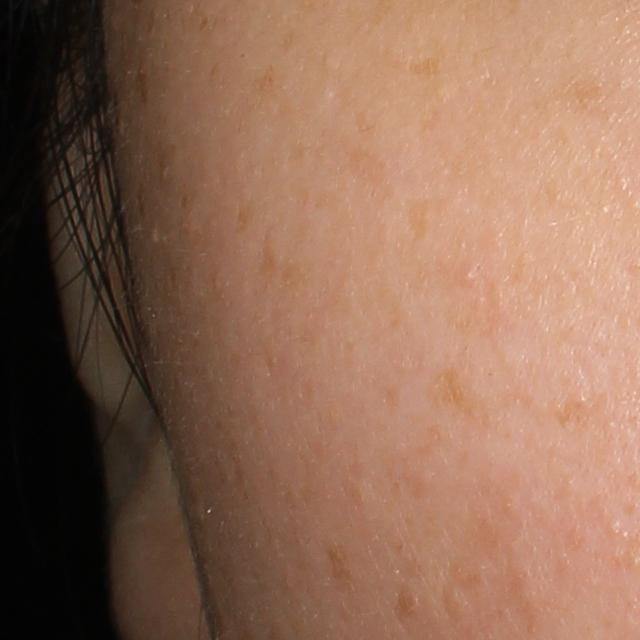comedo: (454, 263, 483, 294)
melasma: (554, 72, 616, 110), (427, 357, 467, 412), (399, 196, 436, 248), (386, 51, 450, 80), (257, 231, 287, 285), (392, 584, 422, 623), (232, 196, 257, 233)
